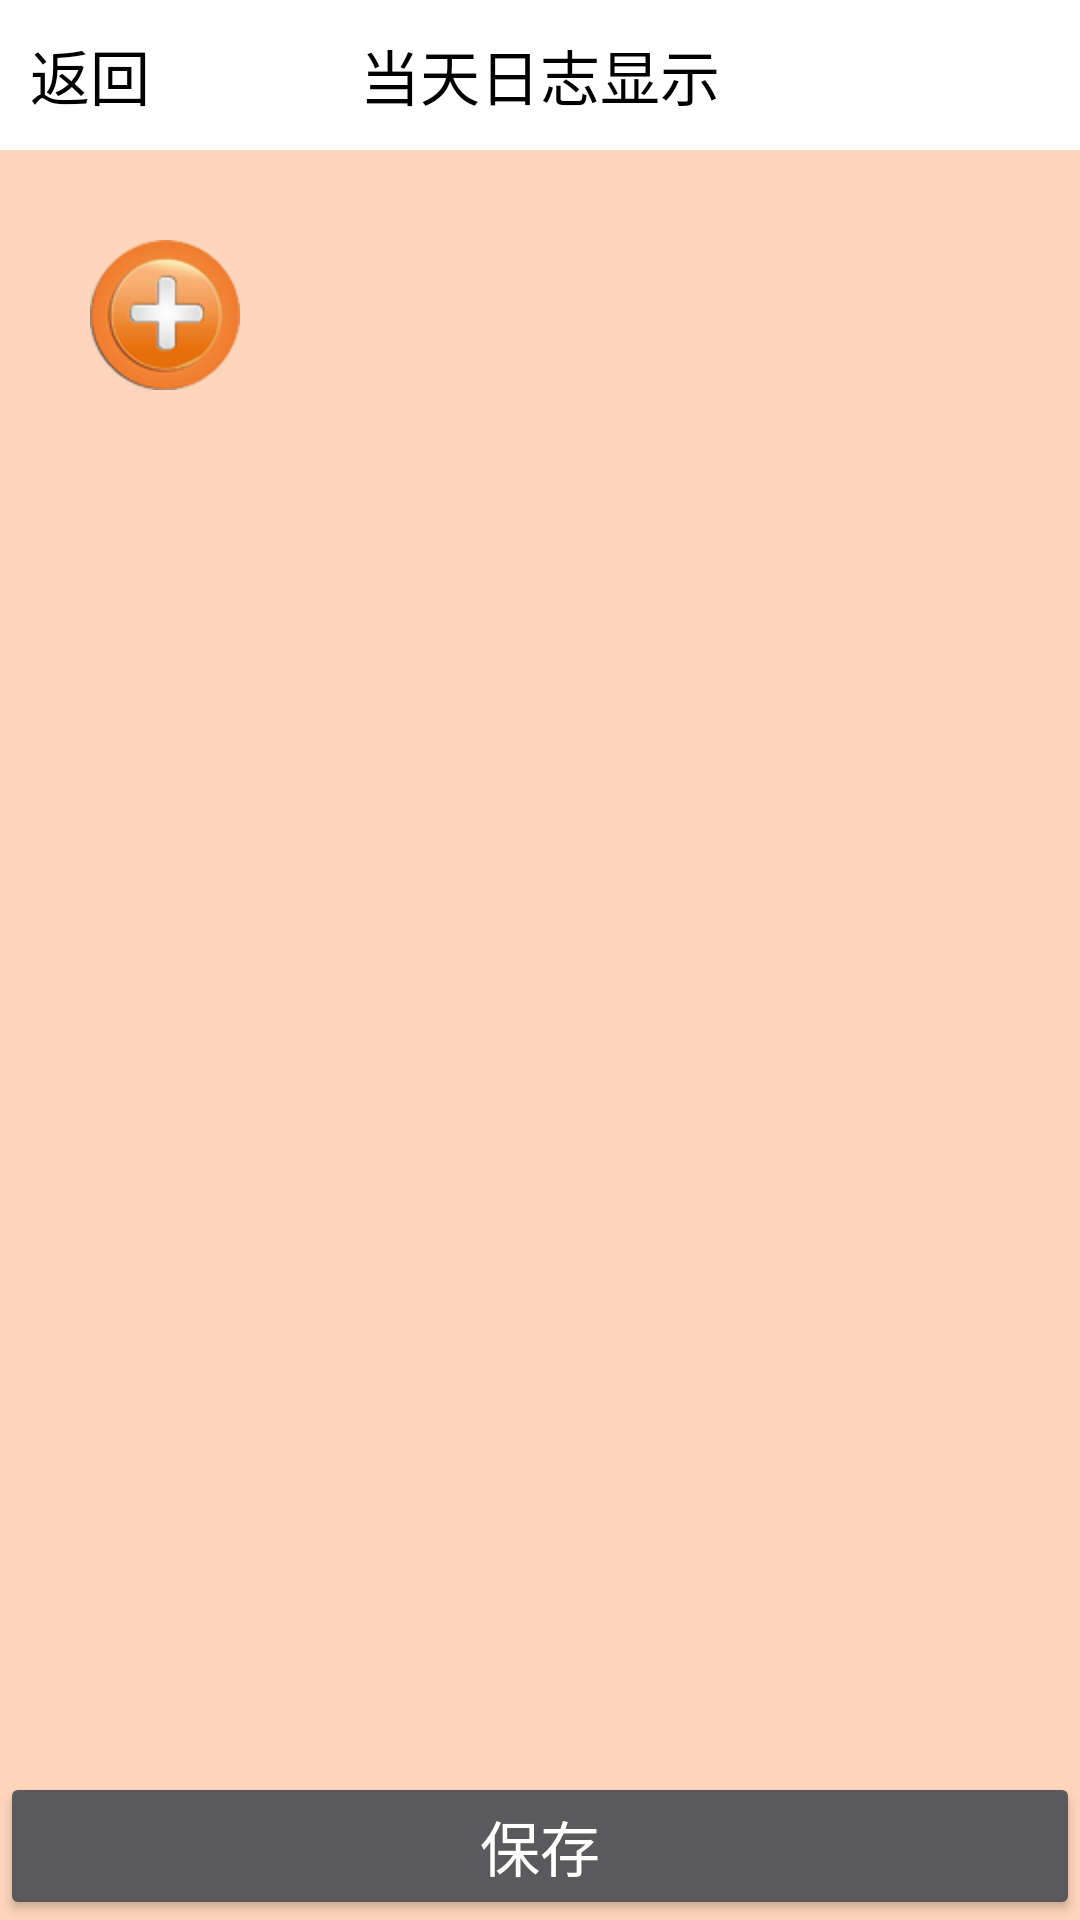

Screen size 1080x1920. Icon name, then its center in pixels as [x,y]:
add: [165,315]
